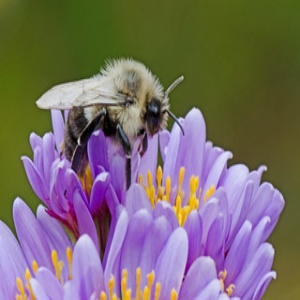bee: (36, 57, 186, 173)
